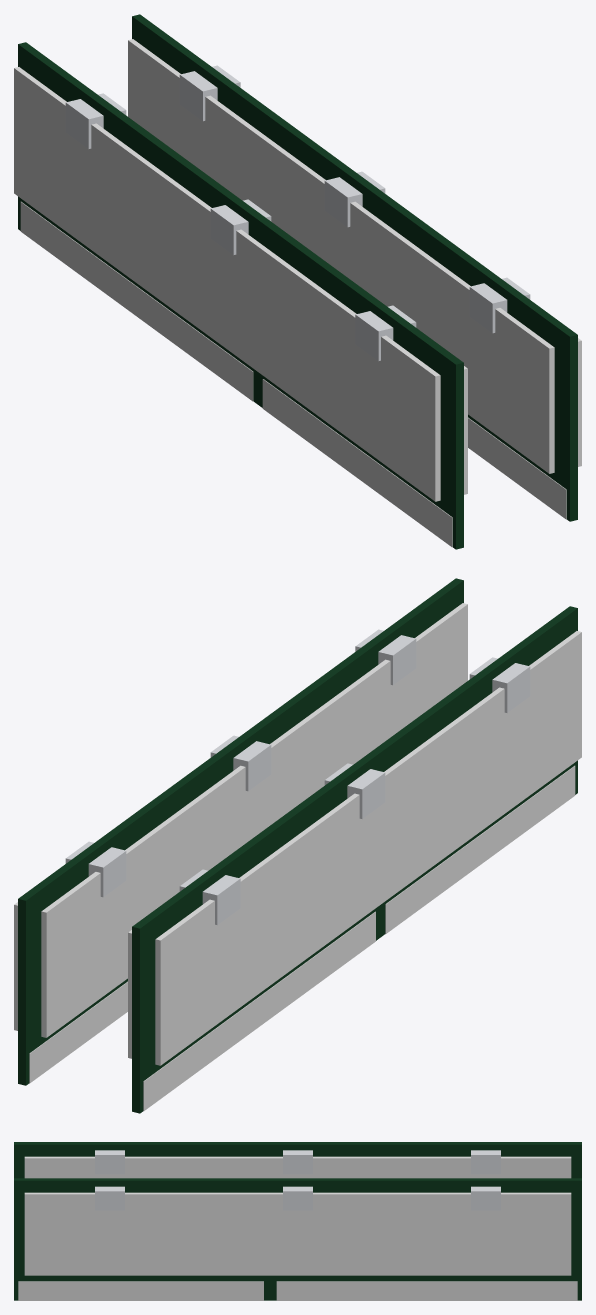
Rendered from hw_ram_ddr4_64gb.glb.
3 views of the same model, one above another, from view 1: azimuth 30°, elevation 25°; view 2: azimuth 150°, elevation 25°; view 3: azimuth 270°, elevation 25° (orthographic). The views are drawn at different scales.
Parts seen in each view (by area): view 1: Stick_1, Body; view 2: Stick_1, Body; view 3: Body, Stick_1.
Boxes of the visible parts, bbox=[...] form: Stick_1: bbox=[14, 42, 467, 549]; Body: bbox=[128, 14, 581, 521]; Stick_1: bbox=[128, 606, 581, 1113]; Body: bbox=[14, 578, 467, 1085]; Body: bbox=[14, 1178, 581, 1300]; Stick_1: bbox=[14, 1142, 581, 1178].
Size of the model in its own units: 0.0266 by 0.031 by 0.133.
